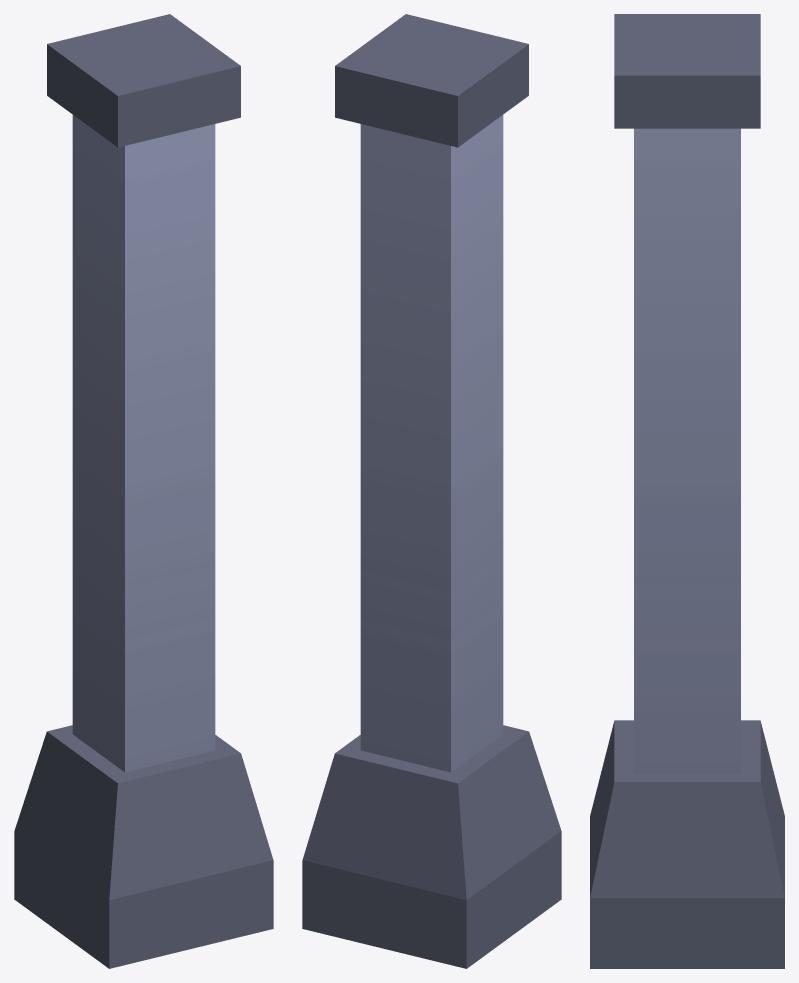
File: bridge-pillar.fbx
3 views of the same model, side by side, from view 1: azimuth 30°, elevation 25°; view 2: azimuth 150°, elevation 25°; view 3: azimuth 270°, elevation 25° (orthographic). The views are drawn at different scales.
Visible parts, largest first — view 1: bridge-pillar; view 2: bridge-pillar; view 3: bridge-pillar.
Boxes of the visible parts, <box> form: bridge-pillar: <box>14,14,273,968</box>; bridge-pillar: <box>302,14,561,968</box>; bridge-pillar: <box>590,14,784,968</box>.
Bounding box in the file's own units: 10 × 50 × 10.
